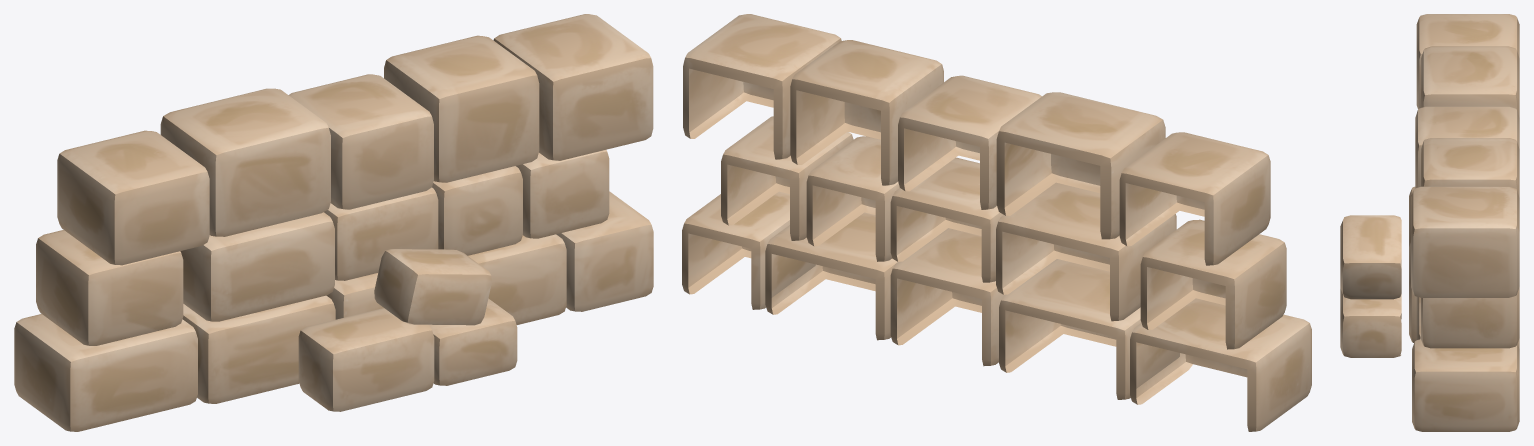
Rendered from muro.fbx.
The picture shows the model from 3 angles, left to right: view 1: azimuth 30°, elevation 25°; view 2: azimuth 150°, elevation 25°; view 3: azimuth 270°, elevation 25°; orthographic projection. The views are drawn at different scales.
Parts seen in each view (by area): view 1: Muro; view 2: Muro; view 3: Muro.
Part boxes in pixels (<box>): Muro: <box>14,14,653,431</box>; Muro: <box>682,14,1311,431</box>; Muro: <box>1340,14,1519,431</box>.
Size of the model in its own units: 46.68 by 19.09 by 14.55.
